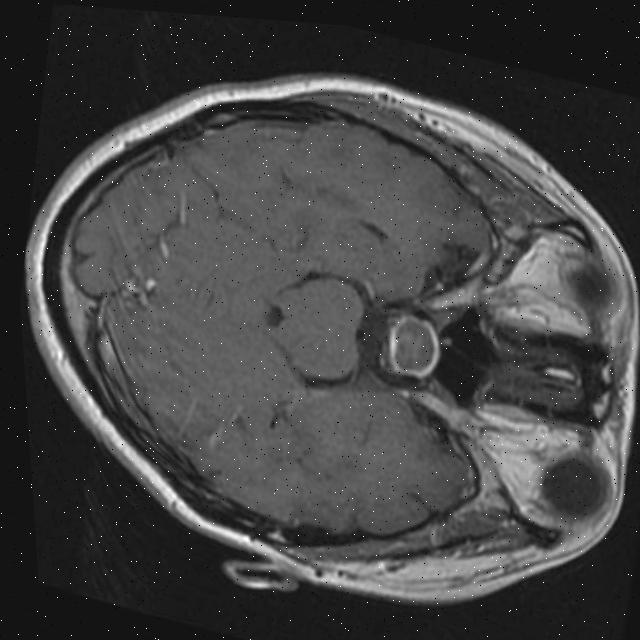Pituitary: (381, 309, 445, 383)
